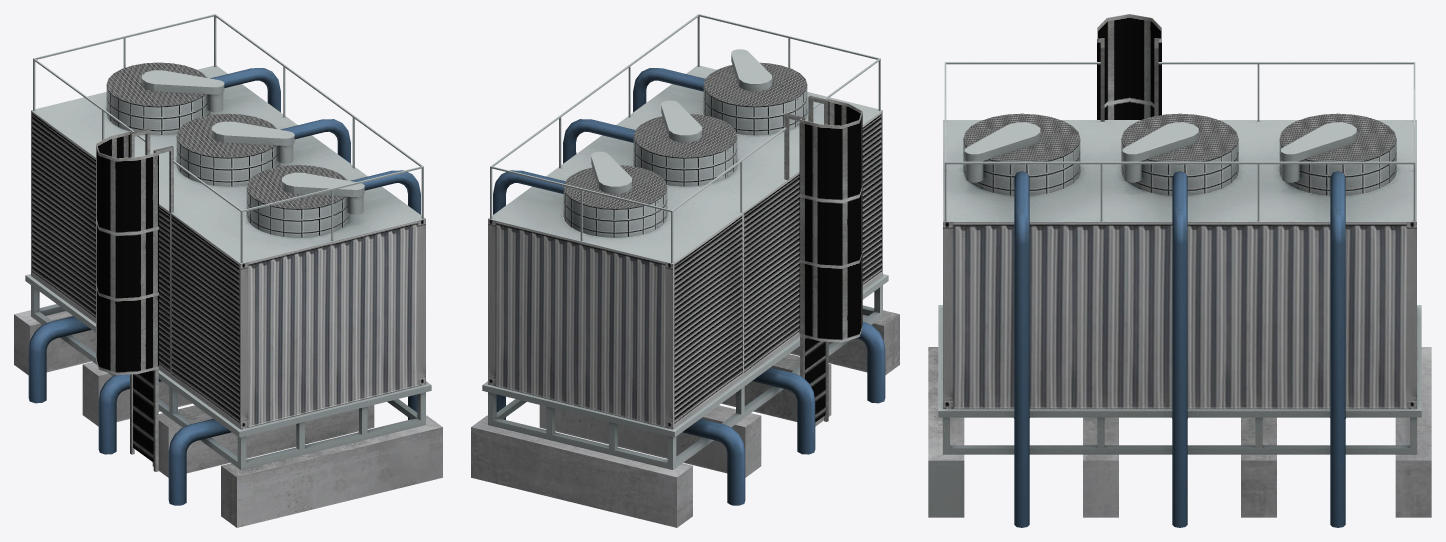
The model's file is CoolingTower.gltf.
3 renders of one model, left to right at view 1: azimuth 30°, elevation 25°; view 2: azimuth 150°, elevation 25°; view 3: azimuth 270°, elevation 25°, orthographic. The views are drawn at different scales.
Parts seen in each view (by area): view 1: waterTower, waterTowerLadder_A; view 2: waterTower, waterTowerLadder_A; view 3: waterTower, waterTowerLadder_A.
Boxes of the visible parts, <box> form: waterTower: <box>14,14,442,527</box>; waterTowerLadder_A: <box>96,128,173,471</box>; waterTower: <box>471,14,899,527</box>; waterTowerLadder_A: <box>784,95,862,422</box>; waterTower: <box>928,62,1431,527</box>; waterTowerLadder_A: <box>1097,14,1161,121</box>.
Size of the model in its own units: 0.0396 by 0.0445 by 0.0559.
2 materials, 2 textured.
